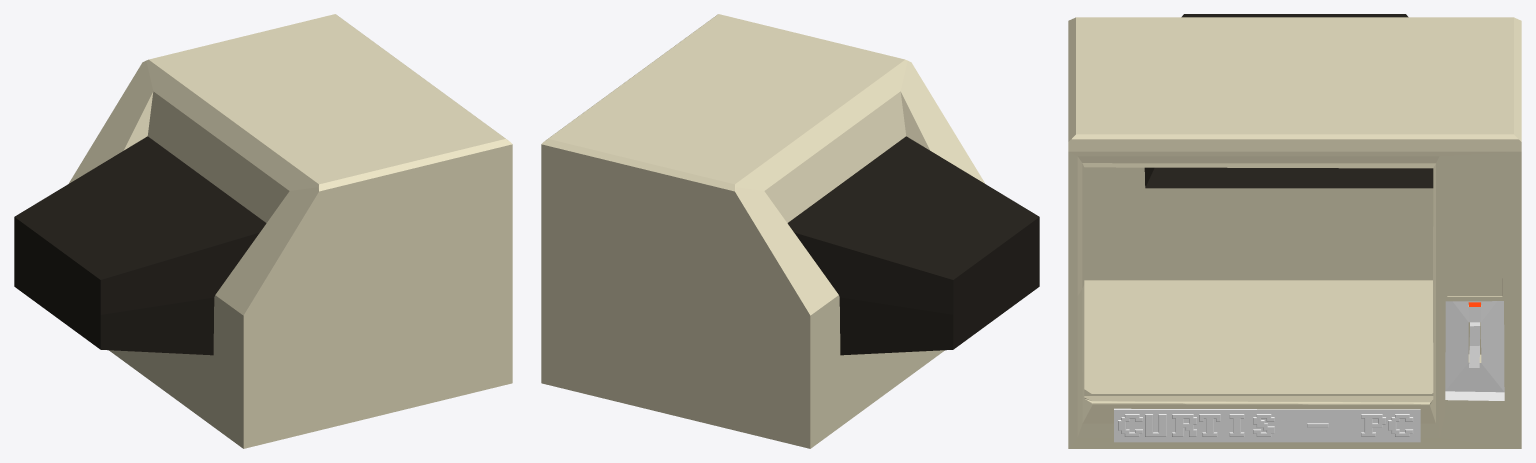
Rendered from ComputerNoScreen.gltf.
The picture shows the model from 3 angles, left to right: view 1: azimuth 30°, elevation 25°; view 2: azimuth 150°, elevation 25°; view 3: azimuth 270°, elevation 25°; orthographic projection. The views are drawn at different scales.
Parts seen in each view (by area): view 1: Monitor.noScreen; view 2: Monitor.noScreen; view 3: Monitor.noScreen.
Part boxes in pixels (bbox=[...]): Monitor.noScreen: bbox=[14, 14, 512, 448]; Monitor.noScreen: bbox=[541, 14, 1039, 448]; Monitor.noScreen: bbox=[1068, 14, 1521, 448].
Bounding box in the file's own units: 4.12 × 2.59 × 3.41.
